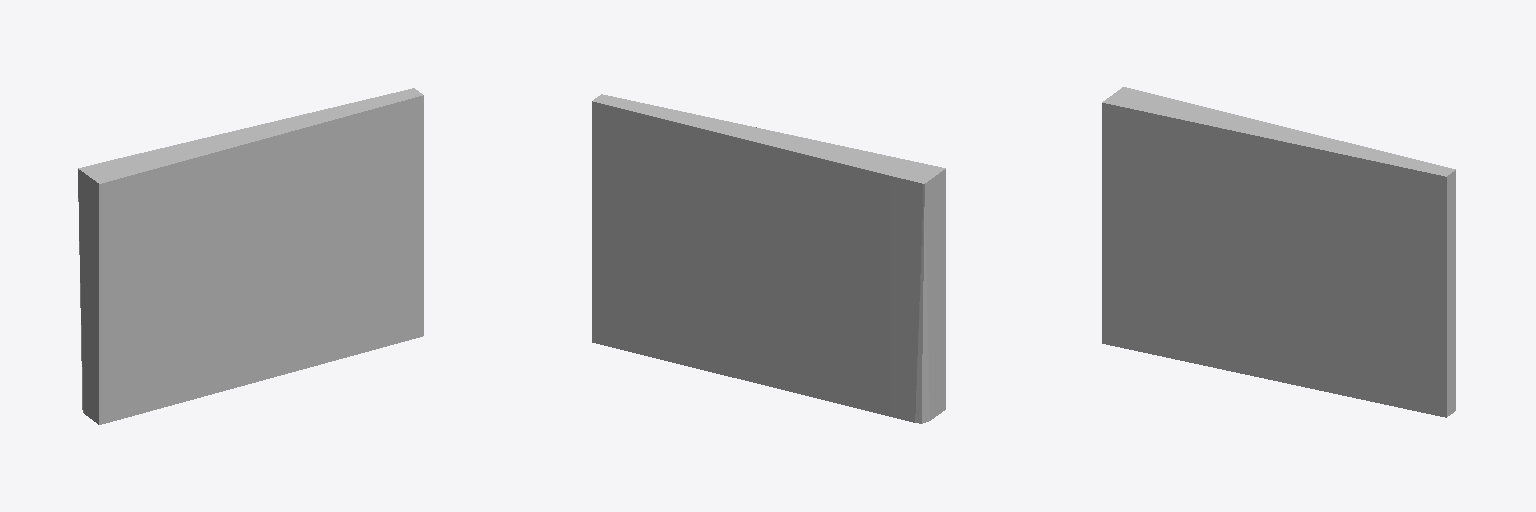
The model's file is Window_Slider_48x36_collision_4.obj.
The picture shows the model from 3 angles: view 1: azimuth 30°, elevation 25°; view 2: azimuth 150°, elevation 25°; view 3: azimuth 330°, elevation 25°; orthographic projection.
Bounding box in the file's own units: 0.5048 × 0.3477 × 0.0563.